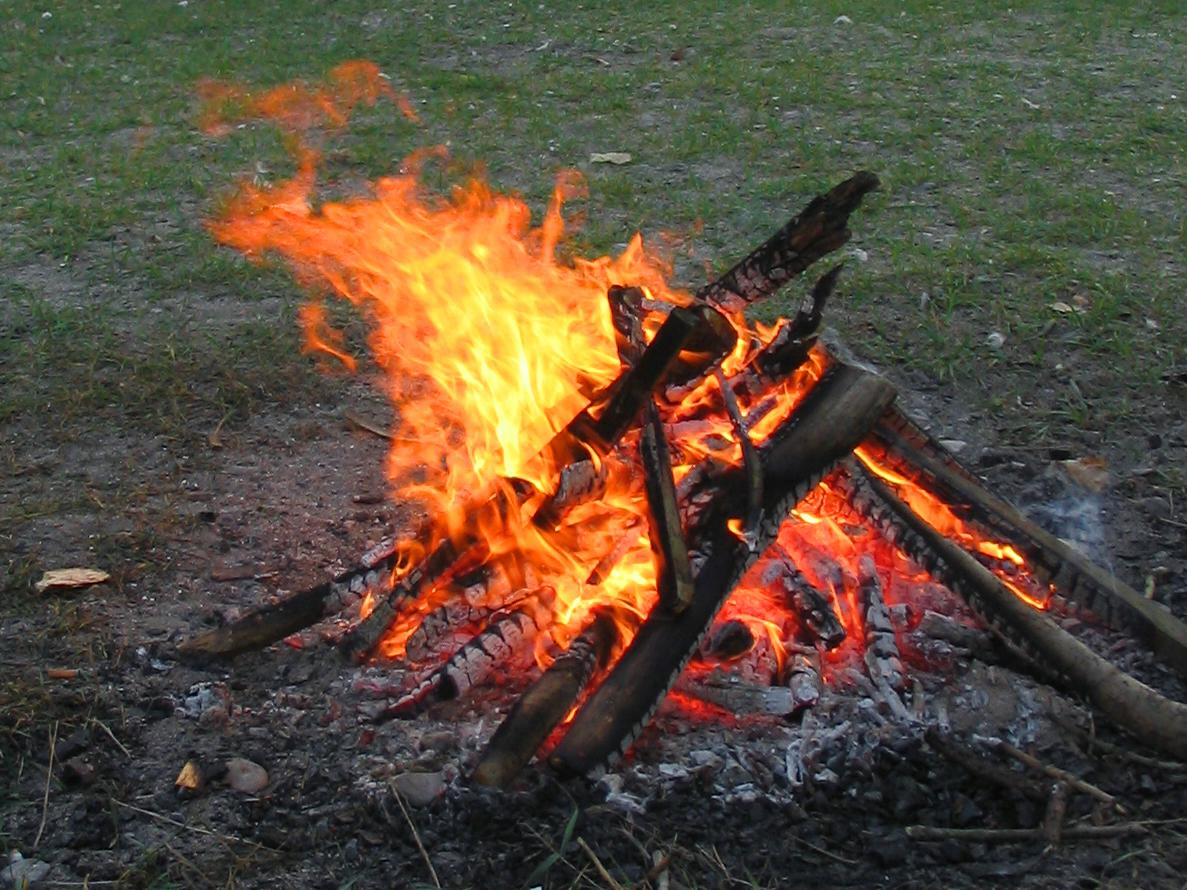fire: (200, 83, 654, 655)
